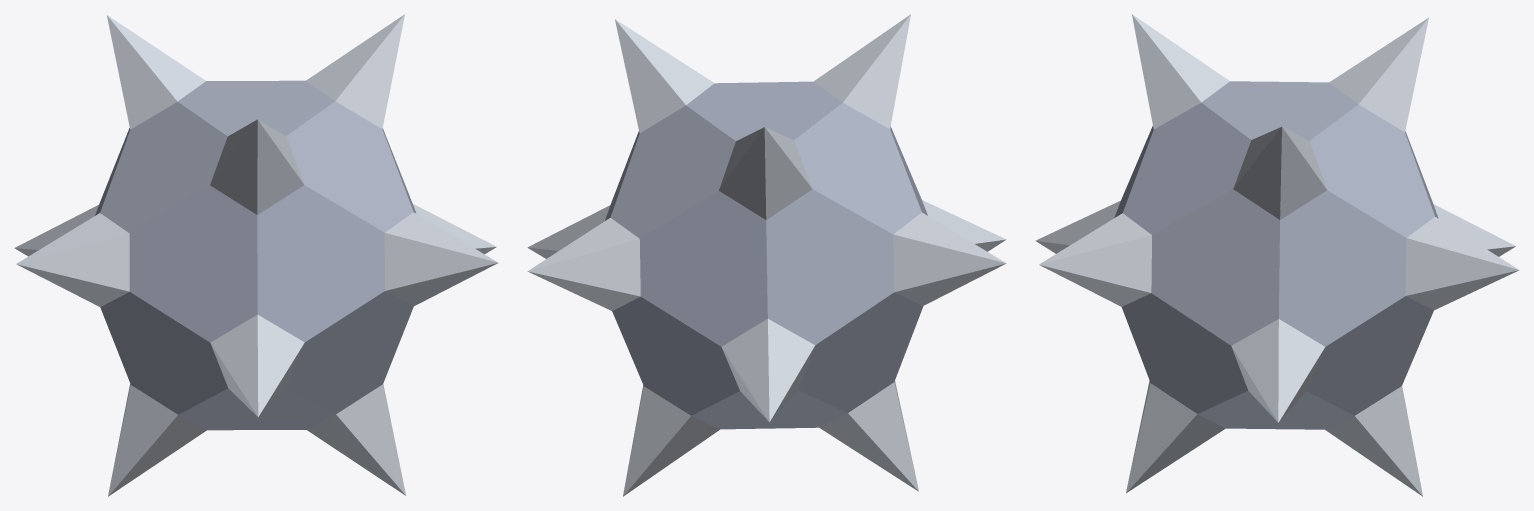
File: SpikeBall.dae
3 renders of one model, left to right at view 1: azimuth 30°, elevation 25°; view 2: azimuth 150°, elevation 25°; view 3: azimuth 270°, elevation 25°, orthographic.
Parts seen in each view (by area): view 1: Icosphere; view 2: Icosphere; view 3: Icosphere.
Boxes of the visible parts, x1=… form: Icosphere: x1=14, y1=14, x2=498, y2=496; Icosphere: x1=527, y1=14, x2=1006, y2=496; Icosphere: x1=1035, y1=14, x2=1519, y2=496.
Size of the model in its own units: 2.71 by 2.37 by 2.22.
